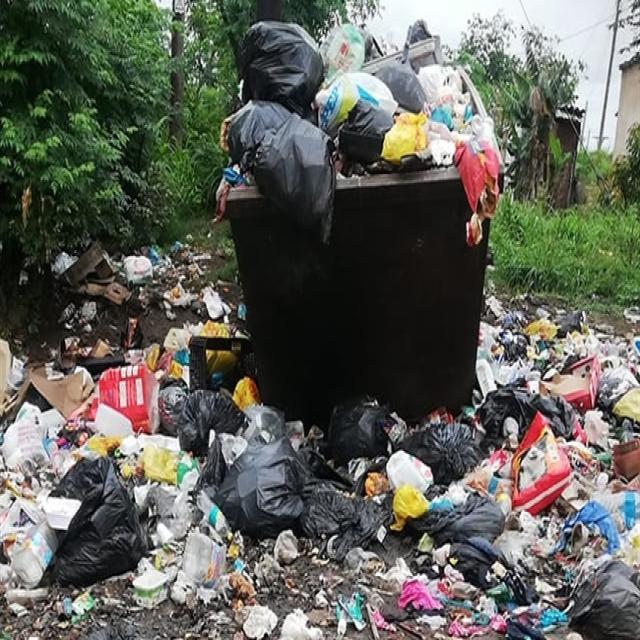dumping: (12, 23, 635, 626)
